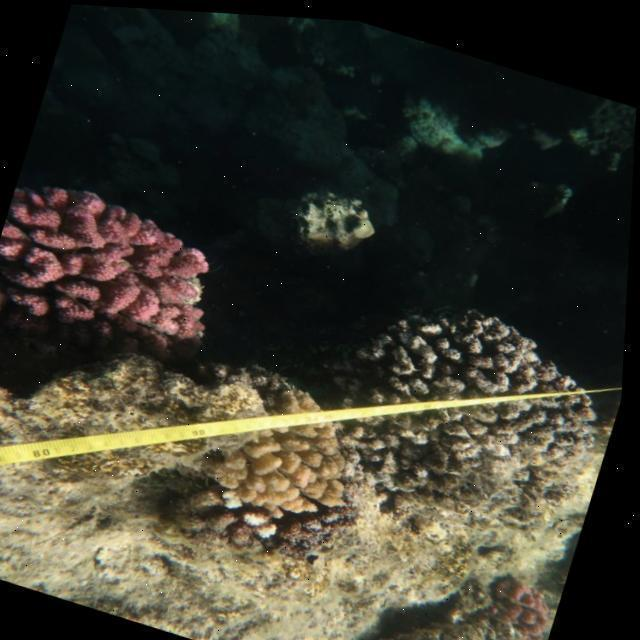Healthy Coral: (0, 169, 238, 387), (480, 562, 556, 635)
